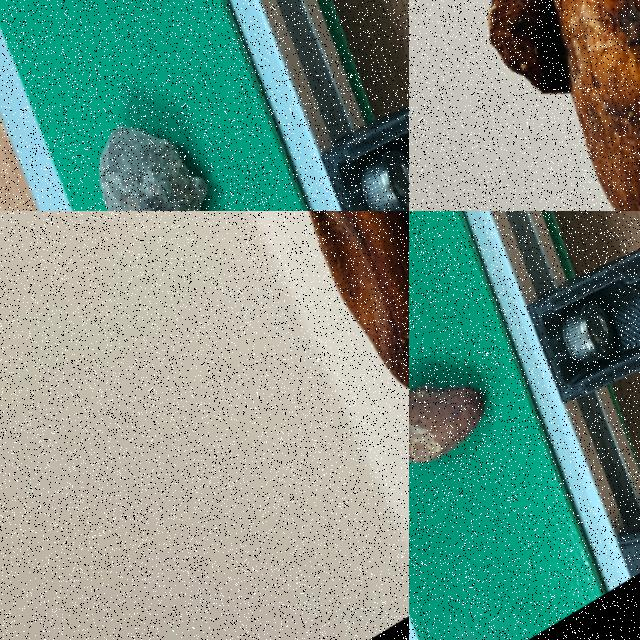Agglomerated_cocoabeans: (8, 38, 337, 210), (409, 0, 639, 210)
Fine_cocoabeans: (409, 270, 585, 558)
Flat_cocoabeans: (183, 211, 408, 518)
